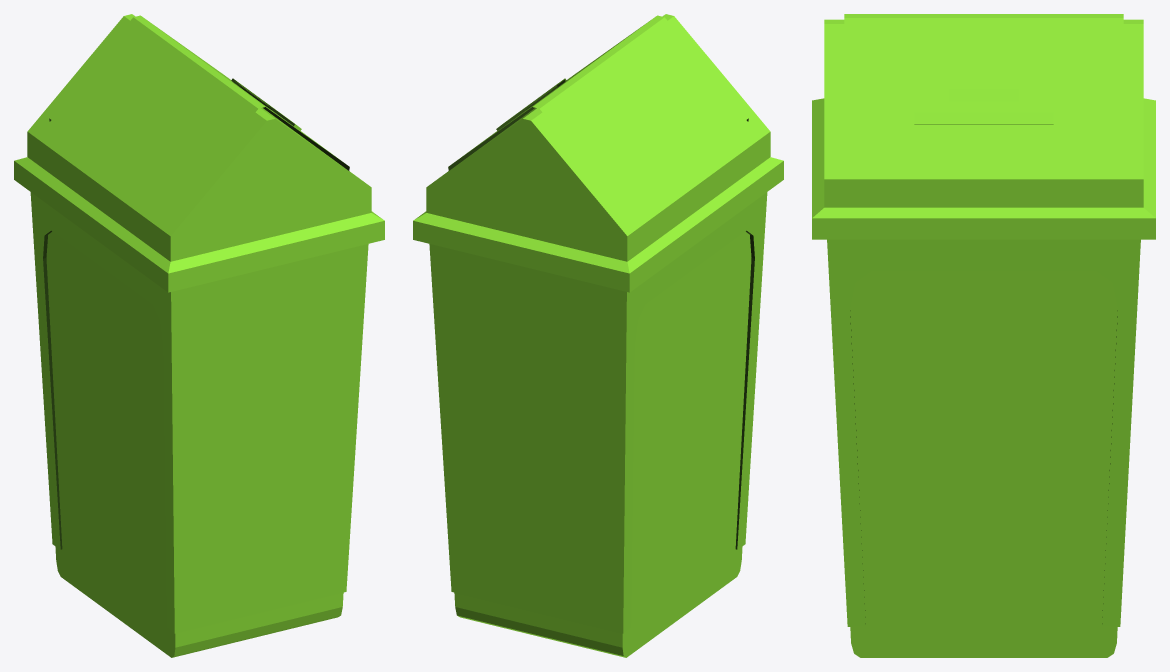
The model's file is TACHO REC.fbx.
3 renders of one model, left to right at view 1: azimuth 30°, elevation 25°; view 2: azimuth 150°, elevation 25°; view 3: azimuth 270°, elevation 25°, orthographic. The views are drawn at different scales.
Parts seen in each view (by area): view 1: Cube; view 2: Cube; view 3: Cube.
Boxes of the visible parts, x1,y1,x2,y2 form: Cube: (14,14,384,657); Cube: (413,14,783,657); Cube: (812,14,1155,657).
Bounding box in the file's own units: 76.61 × 181 × 94.49.
